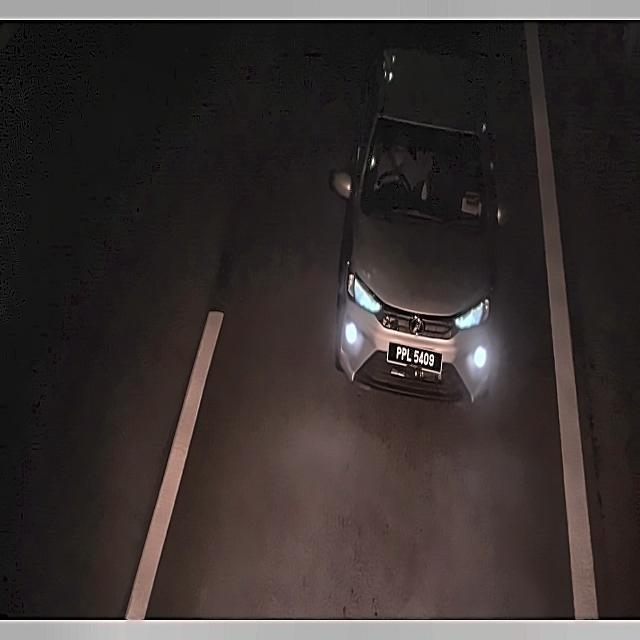car: (386, 332, 447, 378)
